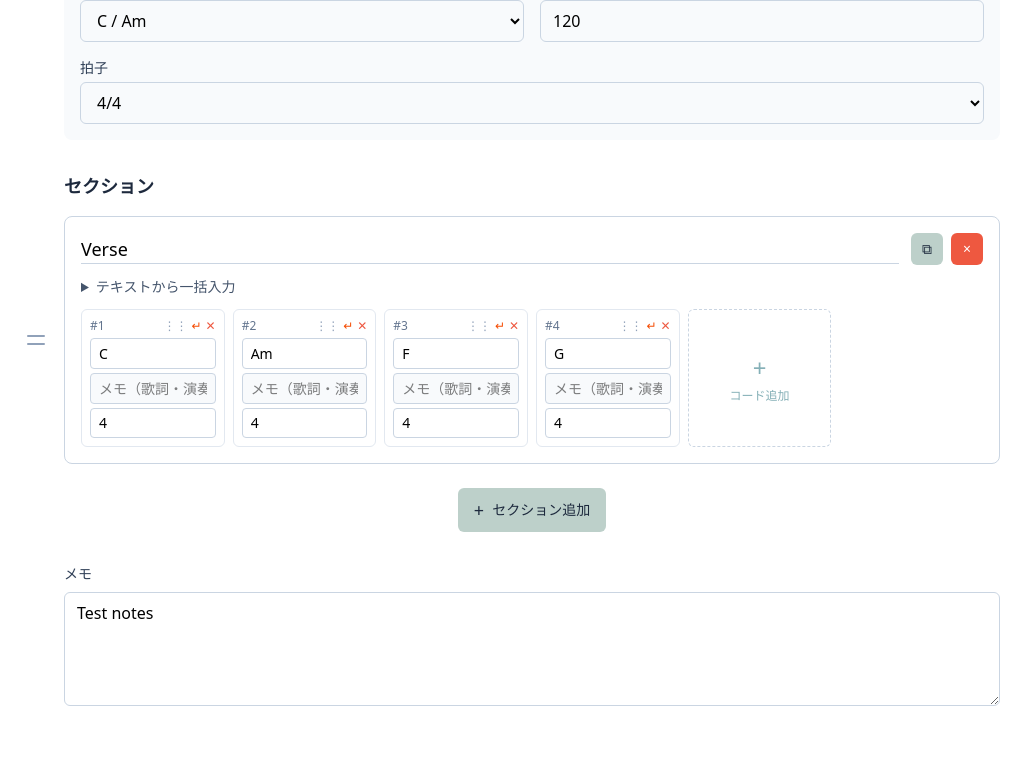
Test: ChordChartEditor › allows adding new section
(page scrolled)
What coordinates should you click on to do the following:
click the text "セクション追加"
I would click on:
 (541, 510)
Its box is [492,500,590,520].
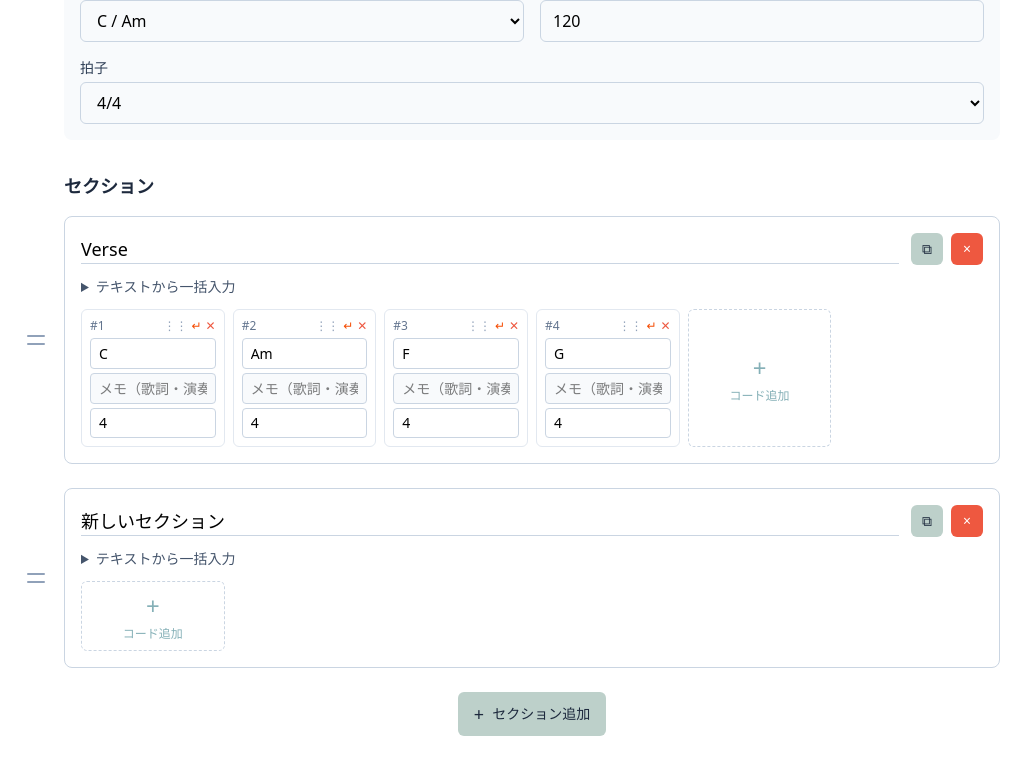
Expected: the 6th field showing "新しいセクション" is shown, [81,506,899,536]
